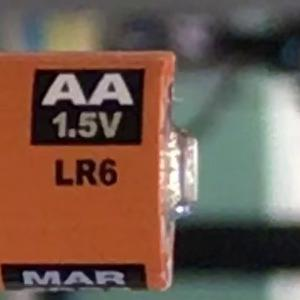keyword: (44, 148, 128, 197)
